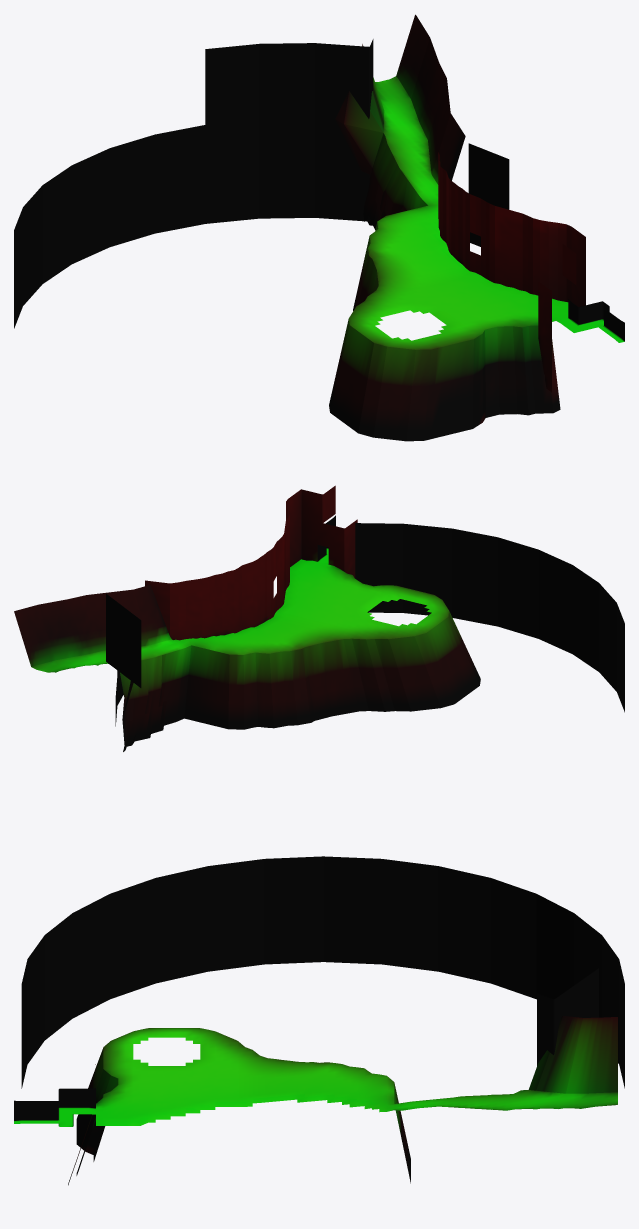
Rendered from castle_graveyard_no_specular.glb.
3 views of the same model, one above another, from view 1: azimuth 30°, elevation 25°; view 2: azimuth 150°, elevation 25°; view 3: azimuth 270°, elevation 25° (orthographic). The views are drawn at different scales.
Parts seen in each view (by area): view 1: DirtFloor, OuterWall, Bricks, GraveyardEntrance; view 2: DirtFloor, OuterWall, Bricks; view 3: OuterWall, DirtFloor, GraveyardEntrance.
Part boxes in pixels (x1=…): DirtFloor: x1=329, y1=14, x2=568, y2=441; OuterWall: x1=14, y1=39, x2=509, y2=328; Bricks: x1=438, y1=152, x2=585, y2=392; GraveyardEntrance: x1=557, y1=299, x2=624, y2=342; DirtFloor: x1=14, y1=559, x2=480, y2=751; OuterWall: x1=106, y1=523, x2=624, y2=726; Bricks: x1=145, y1=485, x2=357, y2=640; OuterWall: x1=21, y1=856, x2=624, y2=1088; DirtFloor: x1=68, y1=1016, x2=617, y2=1185; GraveyardEntrance: x1=14, y1=1088, x2=95, y2=1126.
Size of the model in its own units: 82.87 by 31.01 by 81.93.
